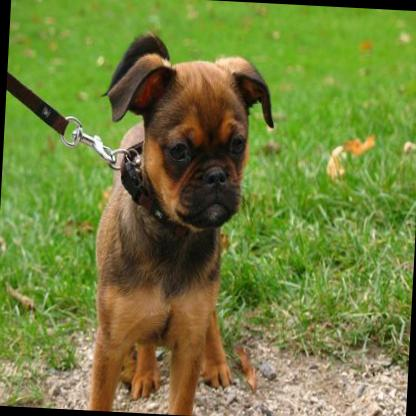Brabancon_griffon: (82, 27, 278, 416)
